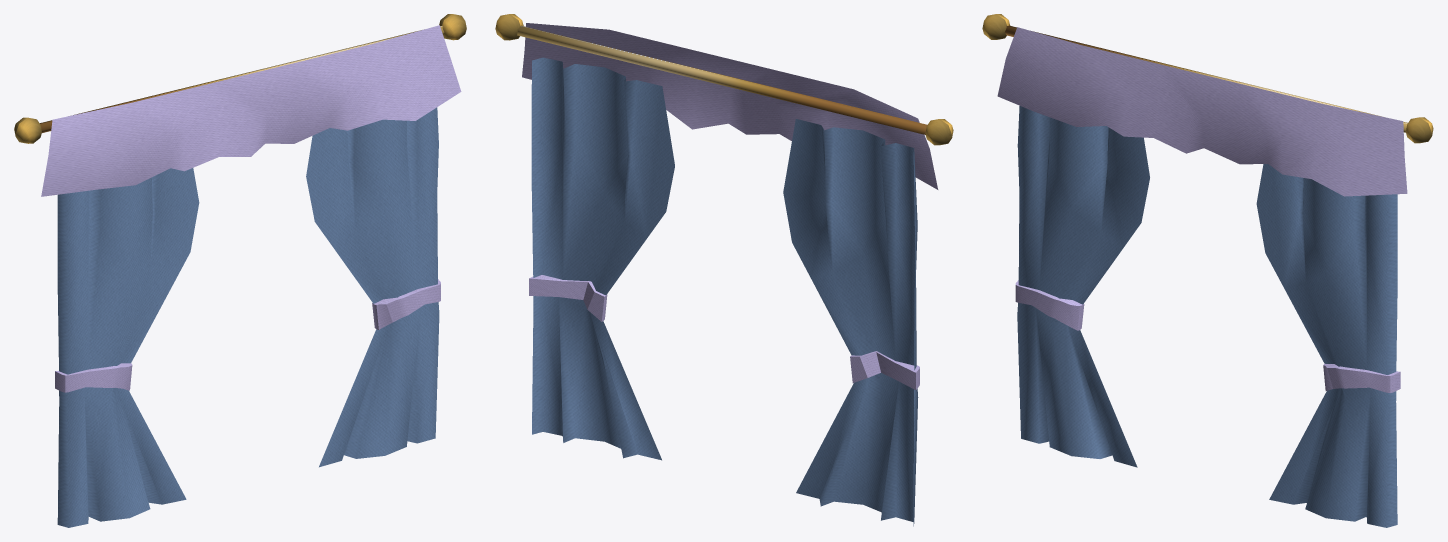
Rendered from Curtains_01_L.FBX.
The picture shows the model from 3 angles, left to right: view 1: azimuth 30°, elevation 25°; view 2: azimuth 150°, elevation 25°; view 3: azimuth 330°, elevation 25°; orthographic projection.
Parts seen in each view (by area): view 1: Curtains_01; view 2: Curtains_01; view 3: Curtains_01.
Boxes of the visible parts, <box> form: Curtains_01: <box>14,14,466,527</box>; Curtains_01: <box>495,14,953,526</box>; Curtains_01: <box>982,14,1433,527</box>.
Size of the model in its own units: 251 by 221 by 25.59.
